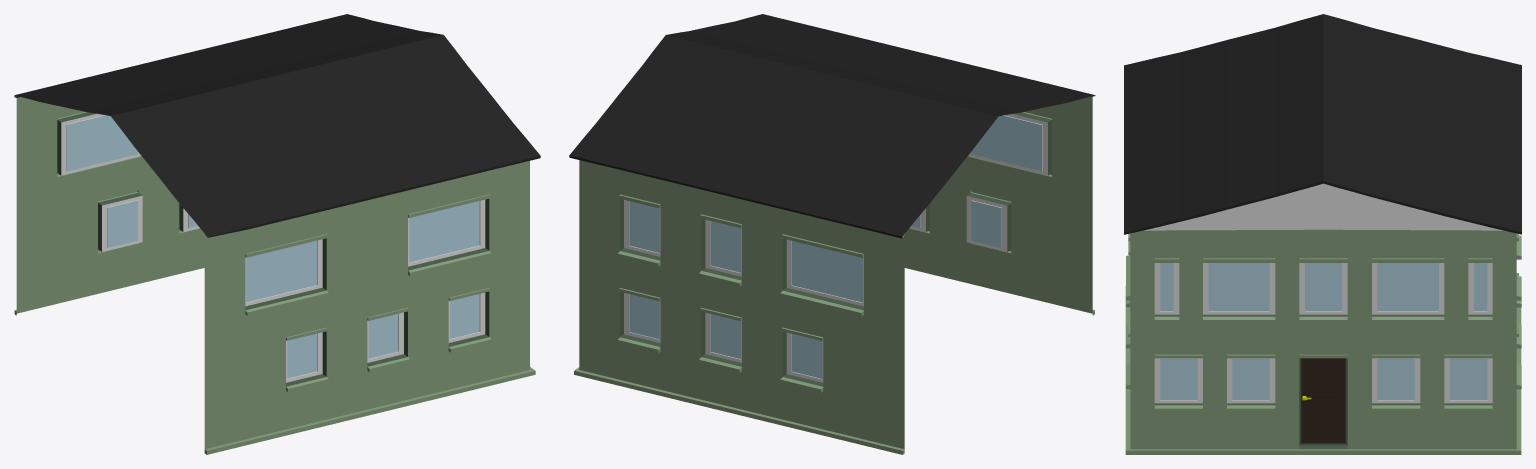
The model's file is House1.fbx.
3 renders of one model, left to right at view 1: azimuth 30°, elevation 25°; view 2: azimuth 150°, elevation 25°; view 3: azimuth 270°, elevation 25°, orthographic. The views are drawn at different scales.
Visible parts, largest first — view 1: House_1; view 2: House_1; view 3: House_1.
Part boxes in pixels (bbox=[...]): House_1: bbox=[14, 14, 540, 454]; House_1: bbox=[569, 14, 1095, 454]; House_1: bbox=[1124, 14, 1521, 454].
Bounding box in the file's own units: 1637 × 1261 × 1647.
